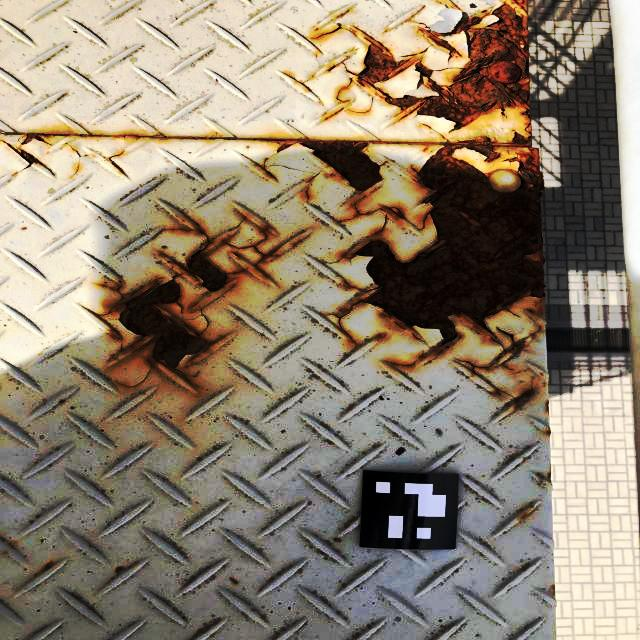Corrosion: (345, 4, 545, 340), (119, 280, 206, 368), (302, 141, 382, 191), (186, 253, 226, 290), (116, 279, 161, 310), (4, 141, 46, 171), (165, 228, 212, 253), (494, 327, 527, 359), (508, 389, 539, 410), (17, 133, 52, 148), (92, 283, 123, 298), (130, 335, 159, 351), (188, 313, 206, 334), (273, 140, 296, 155), (383, 205, 404, 219), (113, 331, 124, 353), (146, 359, 156, 367)
